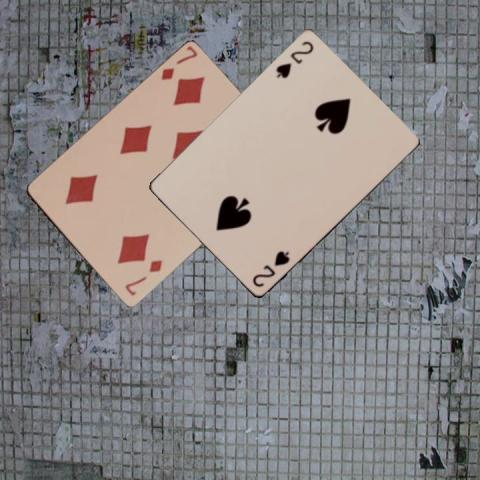2s: (273, 38, 315, 80), (249, 248, 291, 289)
7d: (122, 258, 164, 298), (158, 43, 200, 82)
